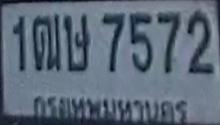1: (12, 16, 25, 71)
2: (186, 11, 212, 74)
5: (128, 12, 152, 72)
7: (156, 12, 180, 73), (101, 13, 124, 72)
A18: (32, 14, 60, 70)
A39: (63, 14, 89, 70)
BKK: (27, 90, 191, 125)
